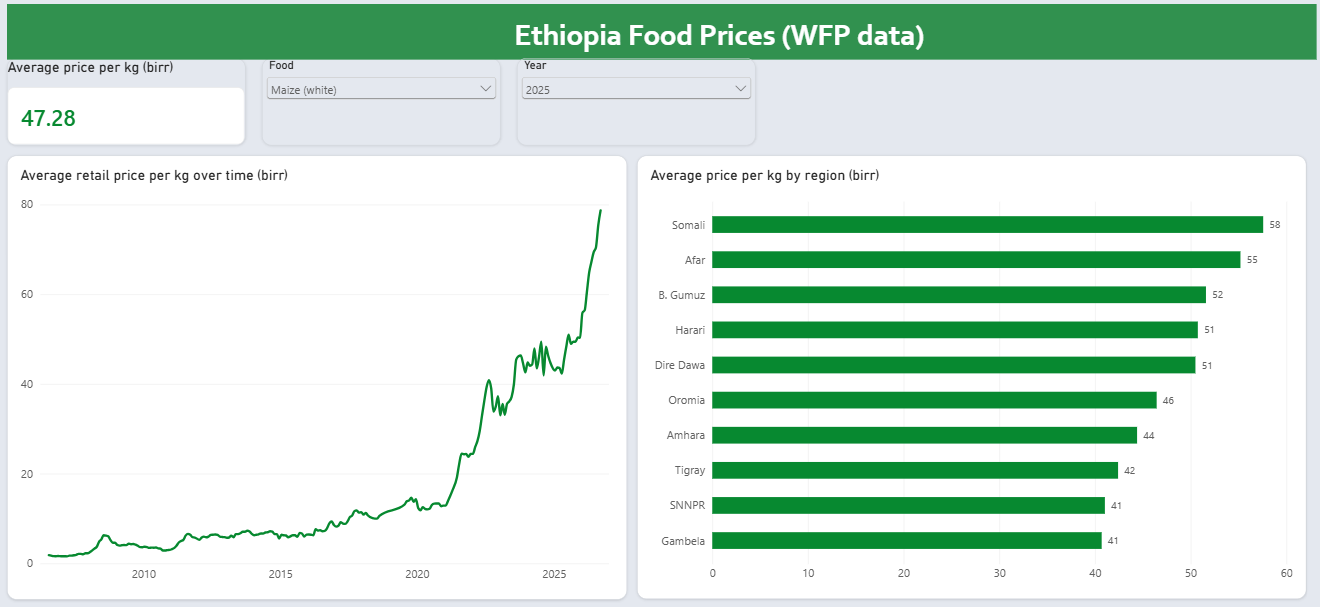

This screenshot's page, from the dashboard's own definition file:
{"tool":"powerbi","page":{"name":"Page 1","canvas":[1920,1080],"ordinal":0},"visuals":[{"type":"cardVisual","title":"Average price per kg (birr)","fields":{"Data":["Avg(wfp_food_prices_eth.price_per_kg)"]},"box":[19.3,80,300,110],"z":0},{"type":"slicer","fields":{"Values":["wfp_food_prices_eth.commodity"]},"box":[340,80,300,110],"z":1000},{"type":"lineChart","title":"Average retail price per kg over time (birr)","fields":{"Category":["wfp_food_prices_eth.date.Variation.Date Hierarchy.Year","wfp_food_prices_eth.date.Variation.Date Hierarchy.Quarter","wfp_food_prices_eth.date.Variation.Date Hierarchy.Month","wfp_food_prices_eth.date.Variation.Date Hierarchy.Day"],"Y":["Avg(wfp_food_prices_eth.price_per_kg)"]},"box":[19.3,201.8,780,558.3],"z":2000},{"type":"textbox","box":[290,870,280,210],"z":3000},{"type":"textbox","box":[19.3,10.5,1647.4,70.2],"z":4000},{"type":"clusteredBarChart","title":"Average price per kg by region (birr)","fields":{"Category":["wfp_food_prices_eth.admin1"],"Y":["Avg(wfp_food_prices_eth.price_per_kg)"]},"box":[810.5,201.8,842.1,557.9],"z":5000},{"type":"slicer","fields":{"Values":["wfp_food_prices_eth.date.Variation.Date Hierarchy.Year"]},"box":[660,80,300,110],"z":6000}]}

Visuals, with their boxes on the page's 1920x1080 design canvas (x1, y1, x2, y2). These are canvas units, not pixel positions in the 1320x607 screenshot, which may show the page scaled, cropped or inside an application window:
"Average price per kg (birr)" cardVisual: [19,80,319,190]
slicer - wfp_food_prices_eth.commodity: [340,80,640,190]
"Average retail price per kg over time (birr)" lineChart: [19,202,799,760]
textbox: [290,870,570,1080]
textbox: [19,10,1667,81]
"Average price per kg by region (birr)" clusteredBarChart: [810,202,1653,760]
slicer - wfp_food_prices_eth.date.Variation.Date Hierarchy.Year: [660,80,960,190]
